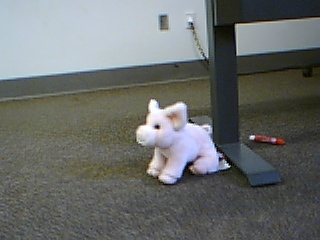piggy: (134, 96, 220, 185)
